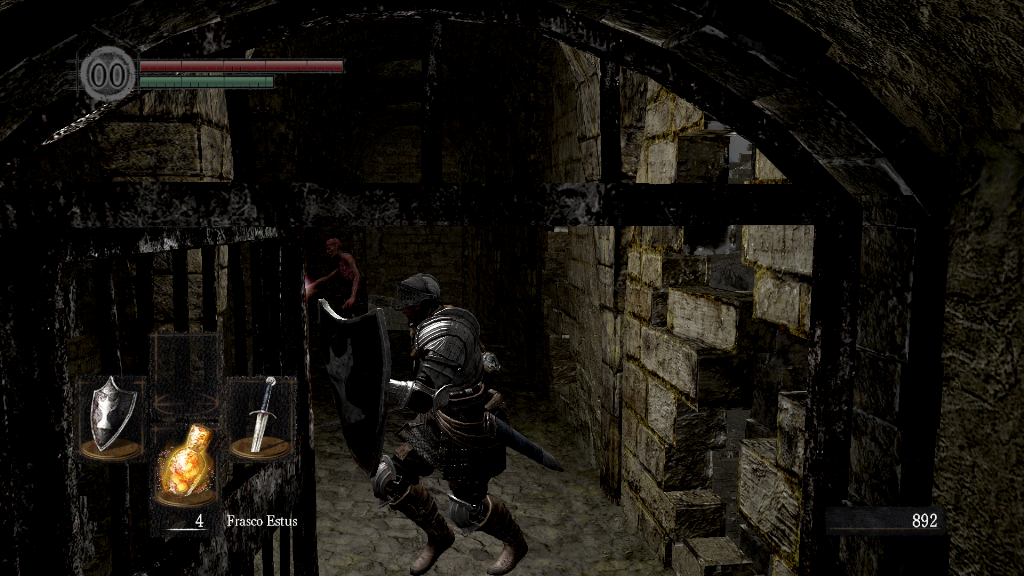health: (138, 58, 343, 71)
hollow: (305, 237, 358, 329)
humanity: (80, 45, 136, 102)
player: (316, 271, 566, 576)
souls: (825, 506, 945, 536)
stamina: (138, 74, 274, 88)
